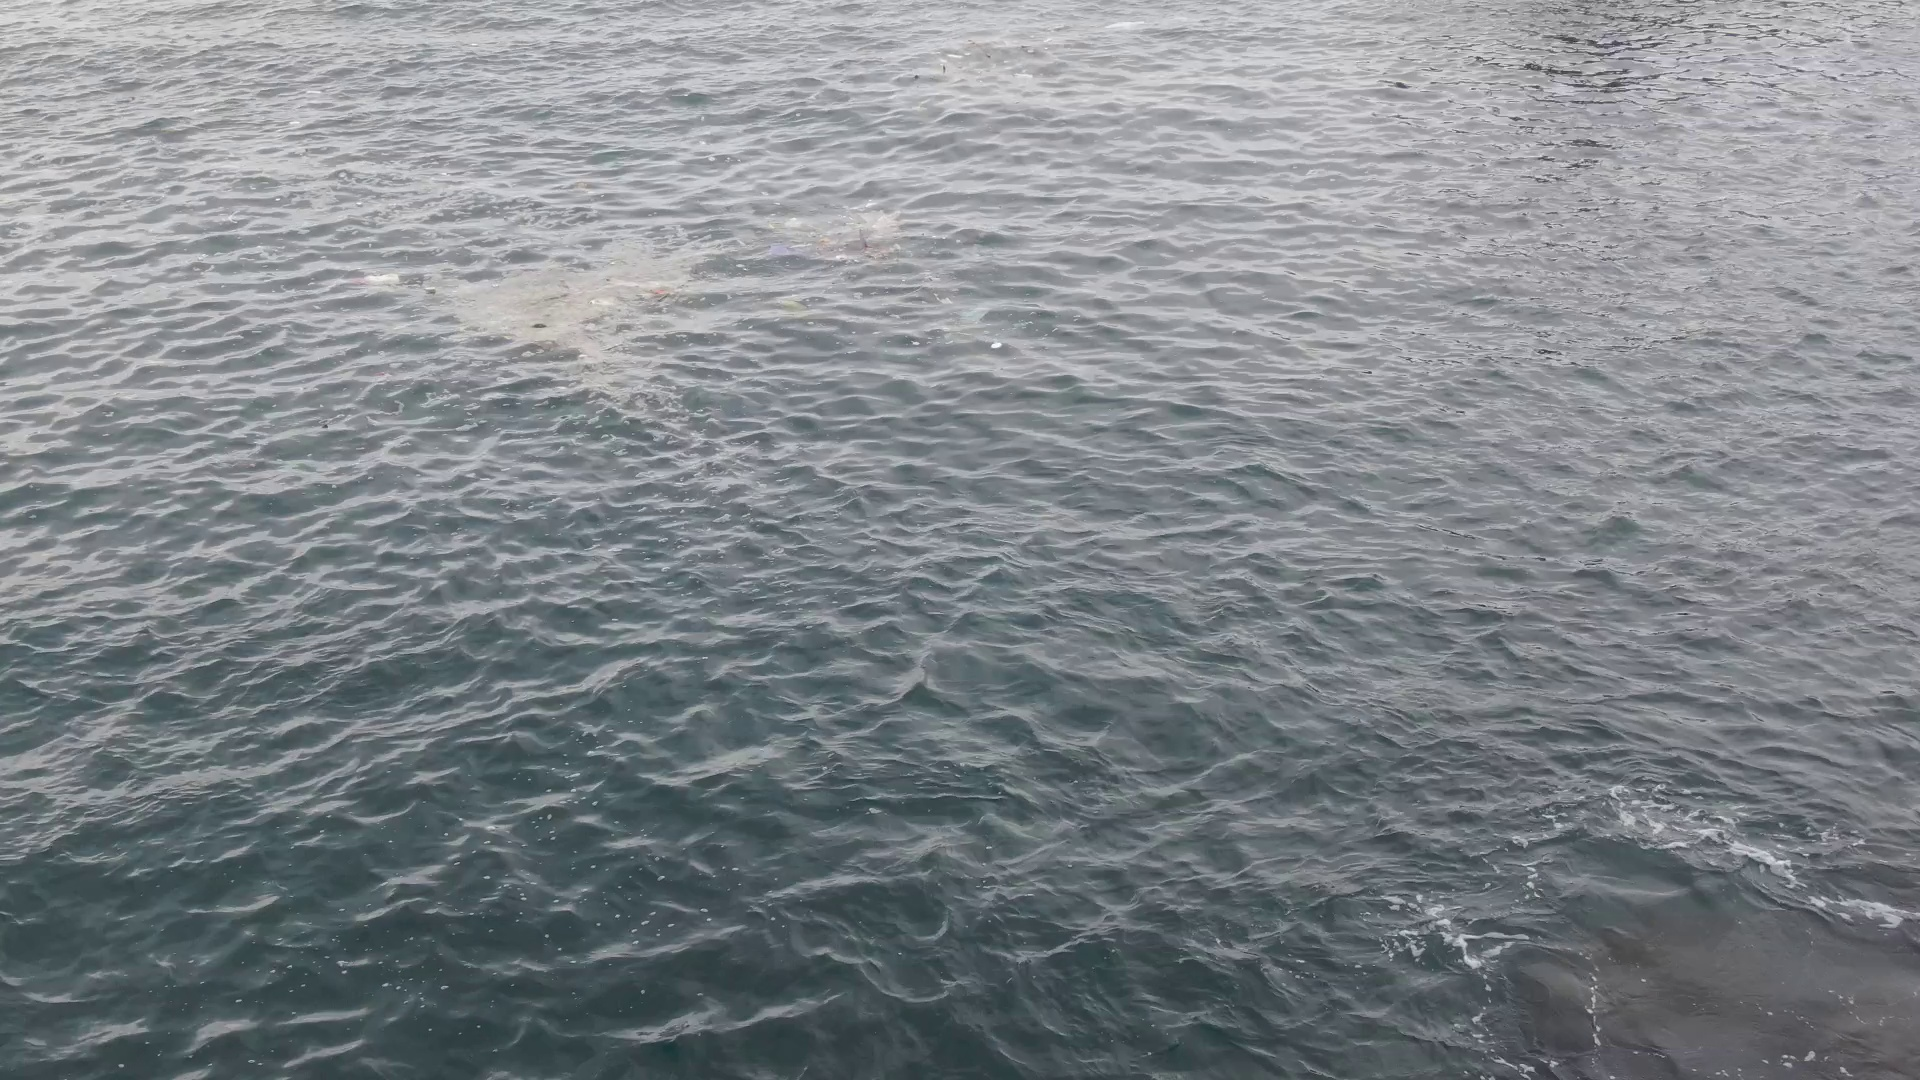garbage: (353, 272, 400, 284), (637, 286, 669, 297), (767, 241, 790, 253), (990, 342, 1002, 348)
